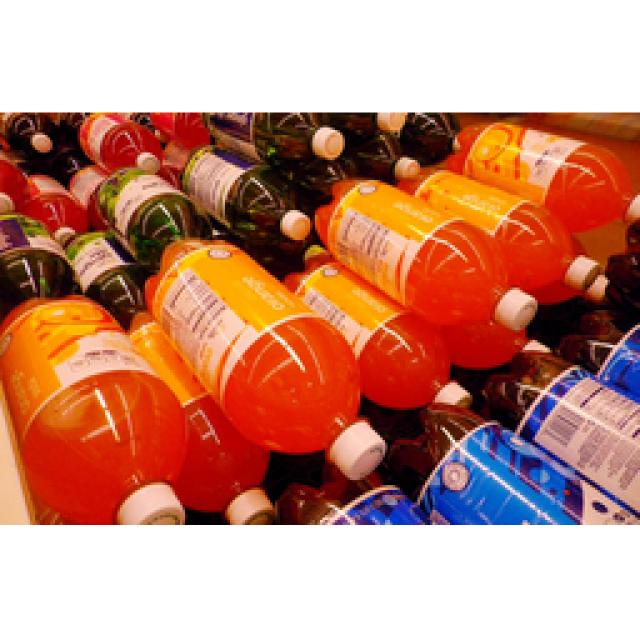plastic_soda_bottles: (149, 244, 382, 482), (3, 300, 186, 528), (322, 168, 534, 338), (284, 251, 473, 415), (401, 163, 596, 294), (452, 115, 640, 227), (184, 144, 311, 246), (215, 118, 346, 176), (78, 113, 157, 172)
